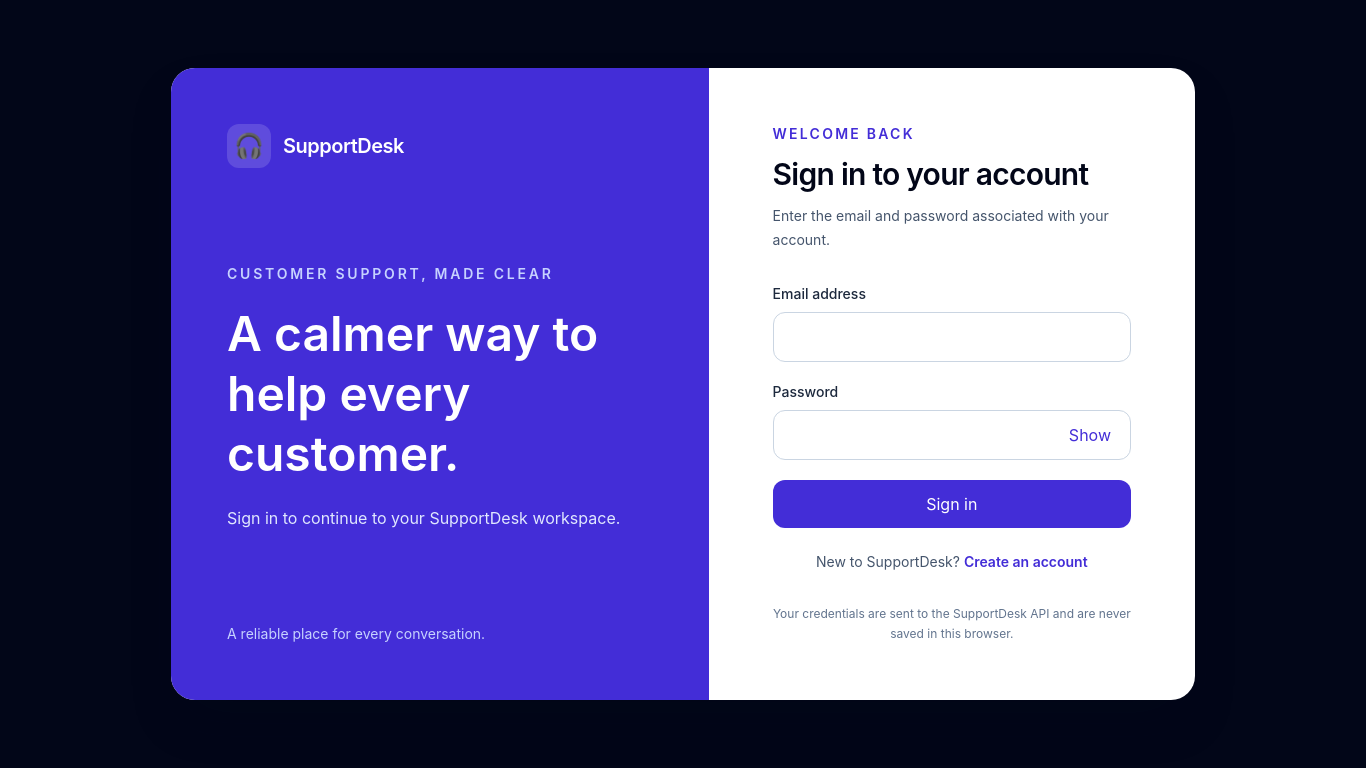
Scenario: SupportDesk frontend foundation › shows required errors without sending an empty login
What coordinates should you click on to do the following:
click the button "Sign in"
I would click on:
 (952, 504)
Its box is 773,480 -> 1131,528.
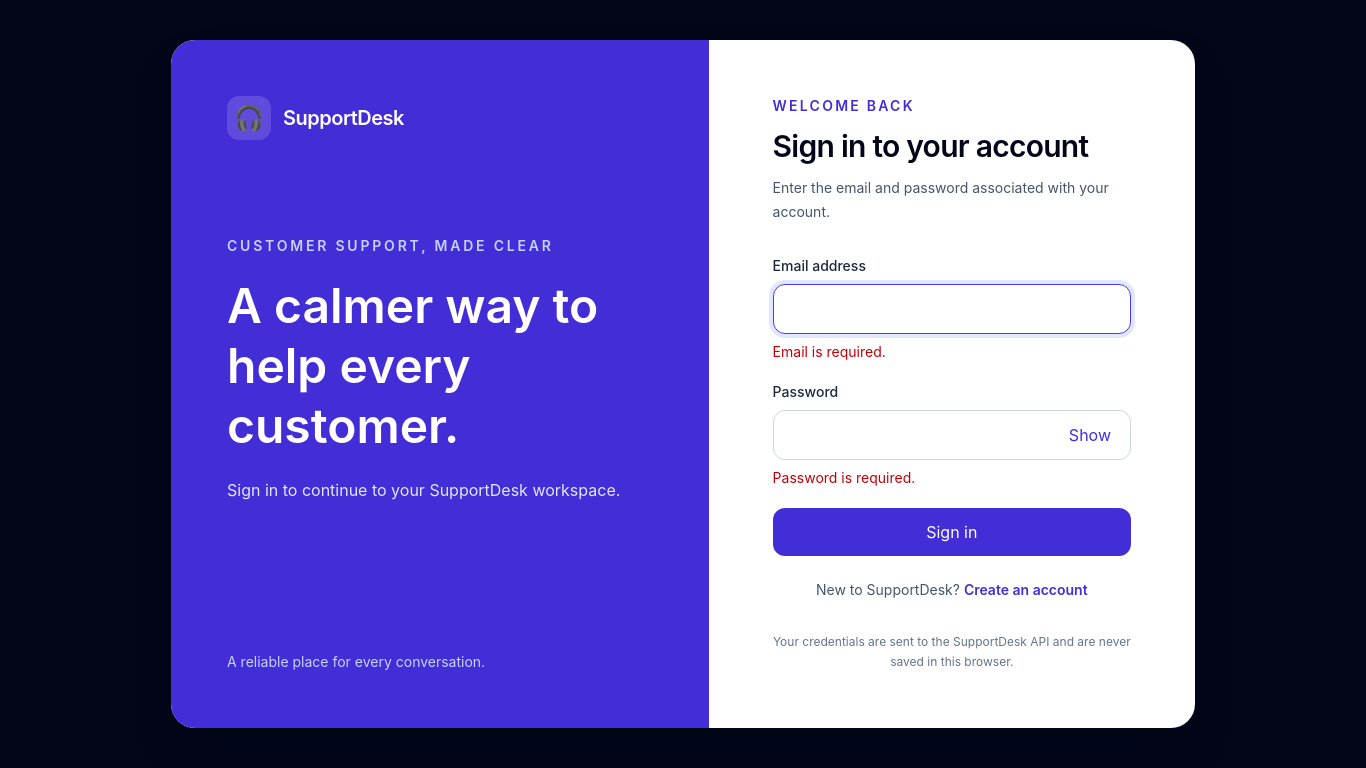
expect the text "Email is required." is shown: met, box 773,343 -> 886,360
expect the text "Password is required." is shown: met, box 773,469 -> 915,486
